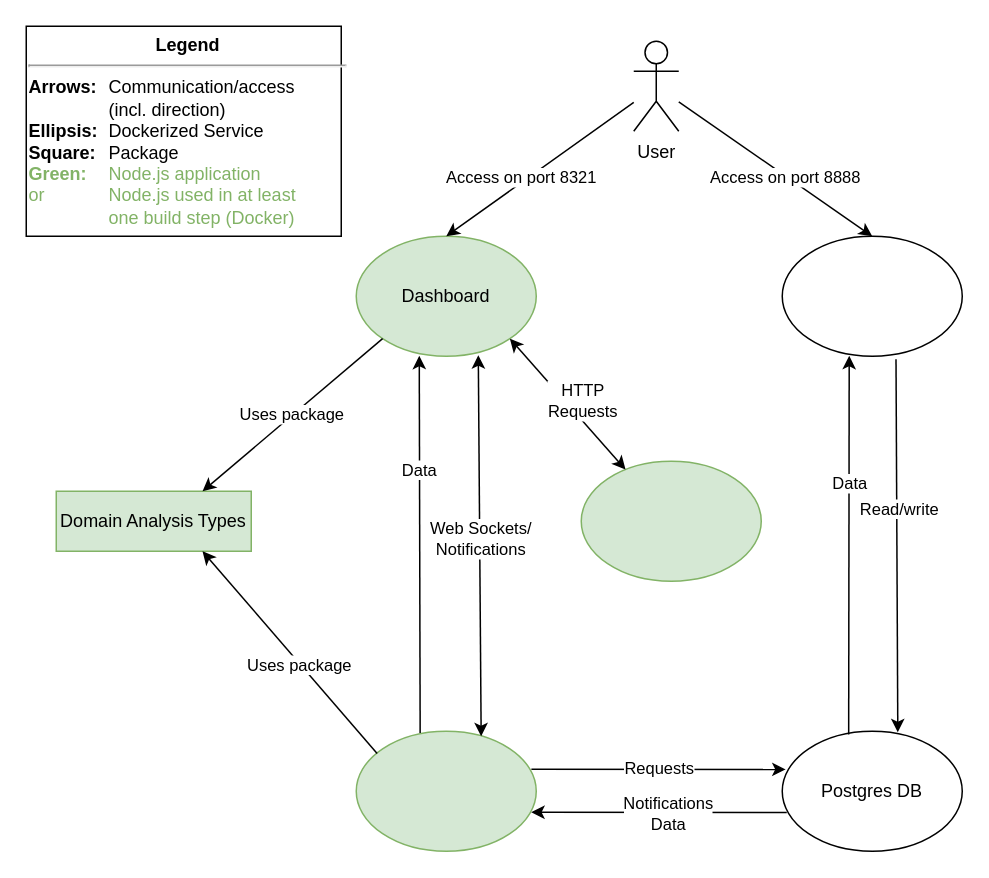
The diagram is 989 pixels wide and 878 high, and some of its shapes have lost their labels. The centre of each missing label's shape, as x and y in pixels:
Dig Microservice: point 670,520
PySpark: point 871,295
Statistics Service: point 445,790
